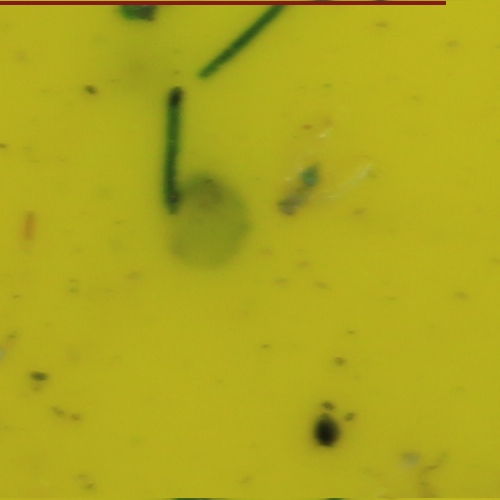psylla: (277, 161, 325, 217)
